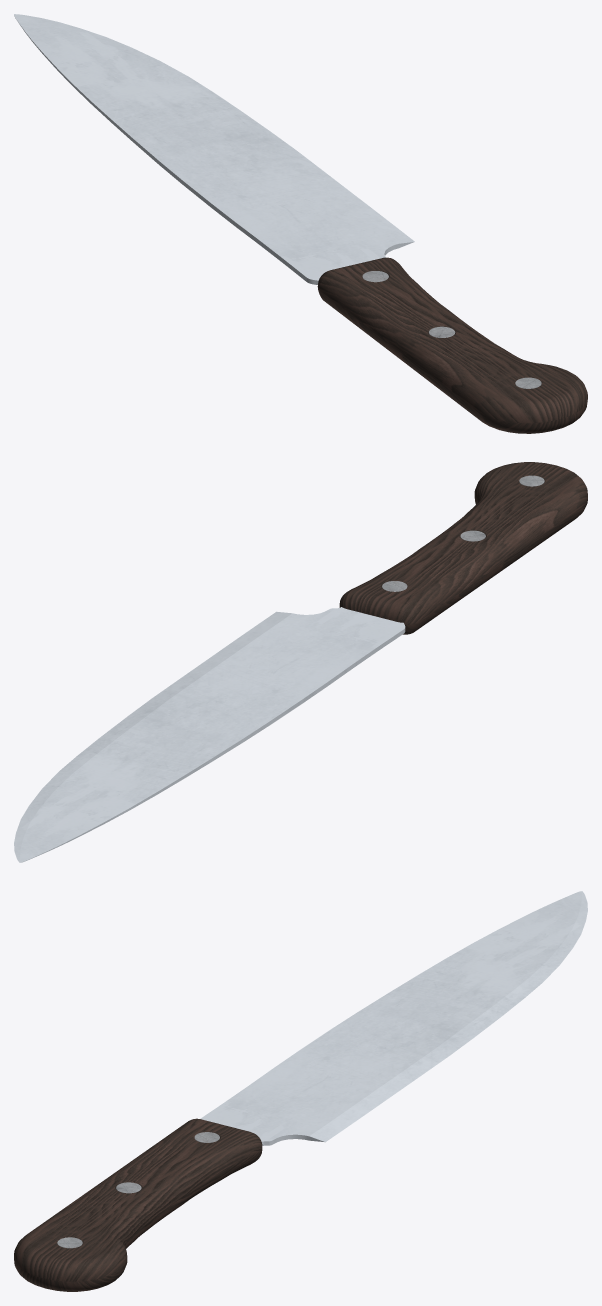
The model's file is knife-normal02.fbx.
3 views of the same model, one above another, from view 1: azimuth 30°, elevation 25°; view 2: azimuth 150°, elevation 25°; view 3: azimuth 330°, elevation 25° (orthographic). The views are drawn at different scales.
Visible parts, largest first — view 1: Kniofe_normal2; view 2: Kniofe_normal2; view 3: Kniofe_normal2.
Boxes of the visible parts, x1=… form: Kniofe_normal2: x1=14, y1=14, x2=587, y2=433; Kniofe_normal2: x1=14, y1=462, x2=587, y2=862; Kniofe_normal2: x1=14, y1=891, x2=587, y2=1291.
Bounding box in the file's own units: 2.23 × 0.5142 × 16.18.
